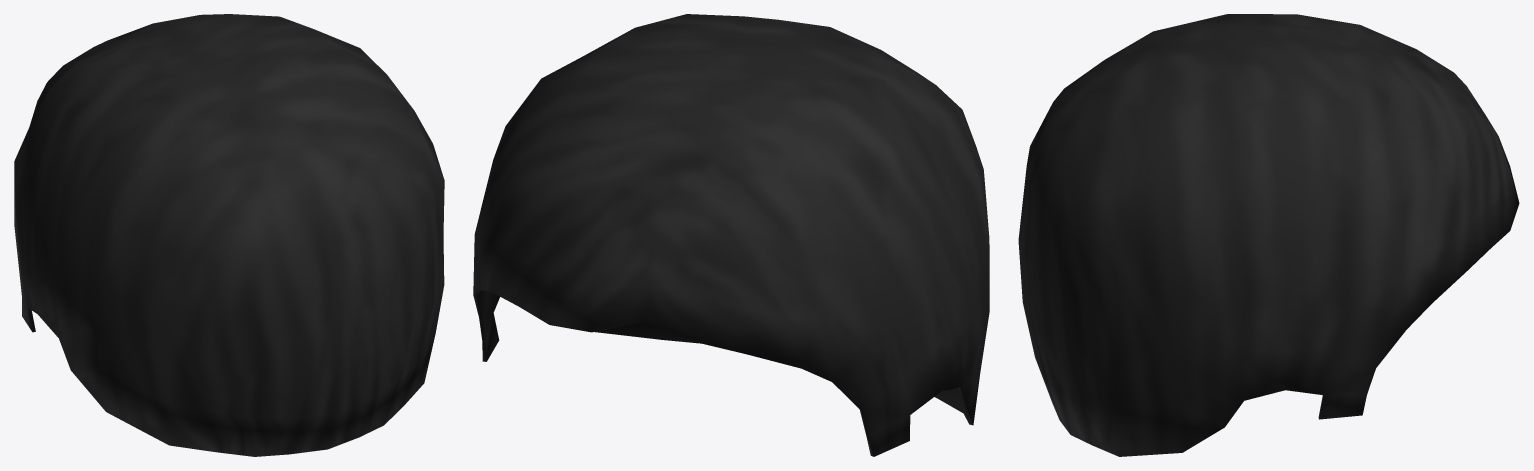
3 renders of one model, left to right at view 1: azimuth 30°, elevation 25°; view 2: azimuth 150°, elevation 25°; view 3: azimuth 270°, elevation 25°, orthographic. The views are drawn at different scales.
Visible parts, largest first — view 1: geometry_0; view 2: geometry_0; view 3: geometry_0.
Boxes of the visible parts, box(x1,y1,x2,y2) form: geometry_0: box(14, 14, 444, 456); geometry_0: box(473, 14, 989, 456); geometry_0: box(1018, 14, 1519, 456).
Size of the model in its own units: 1.3 by 1.11 by 1.43.
1 material, 1 textured.
